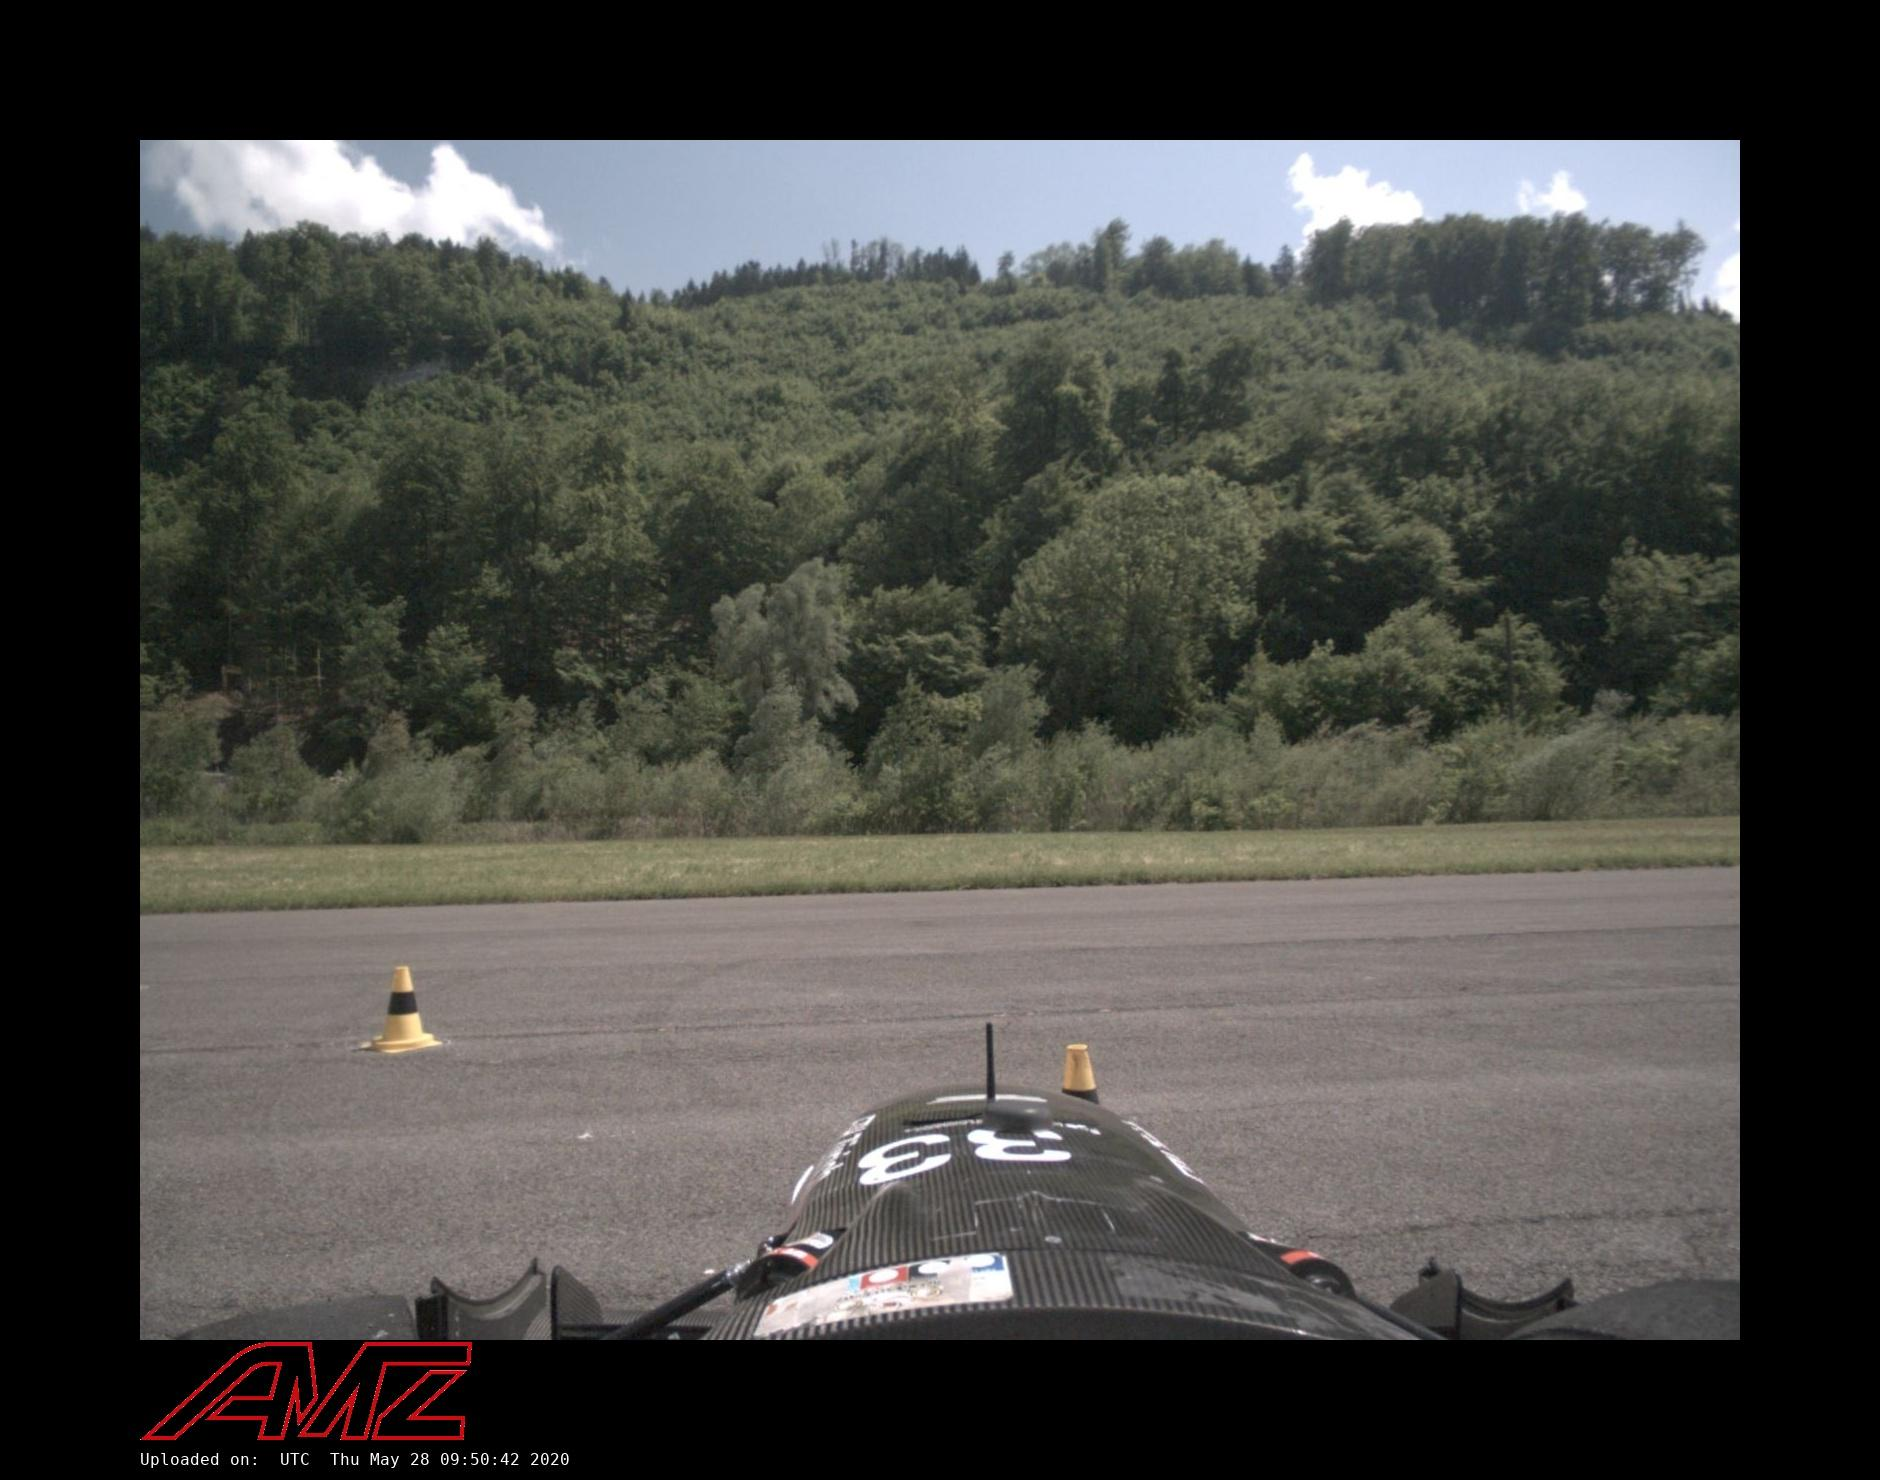yellow_cone: (360, 964, 444, 1057), (1062, 1044, 1102, 1108)
